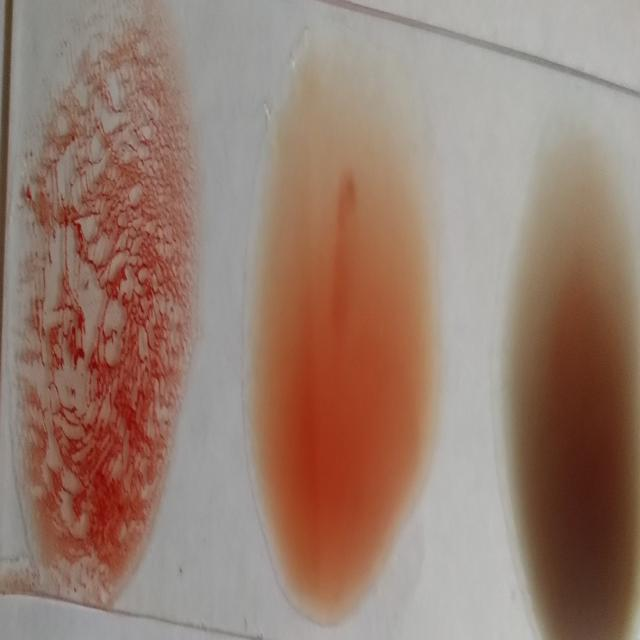D: (20, 12, 185, 592)
